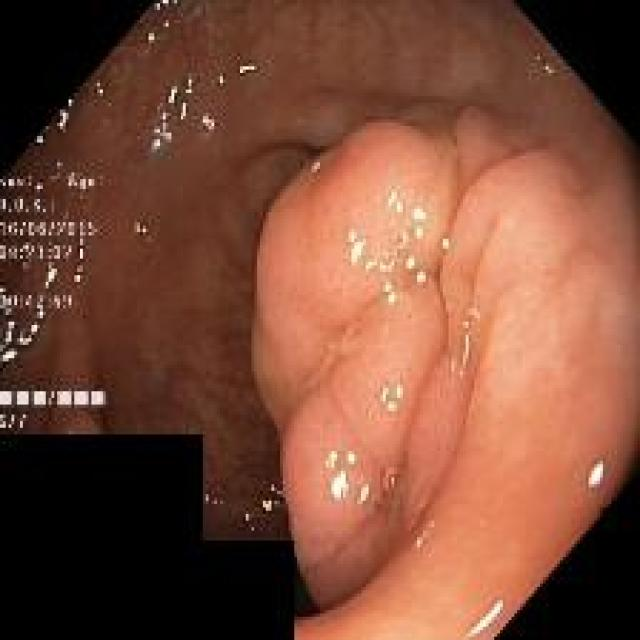Polyps: (254, 109, 640, 640)
